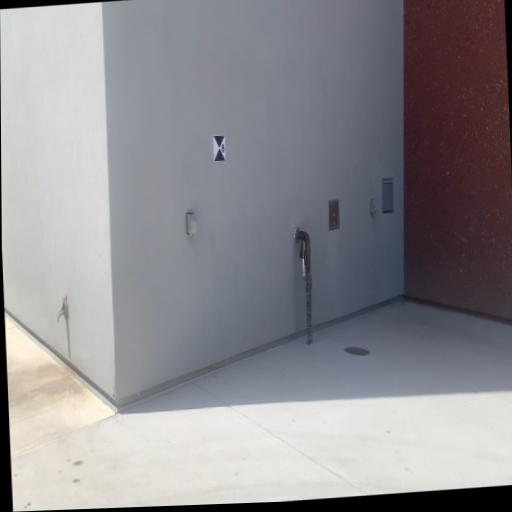target8: (212, 133, 226, 165)
